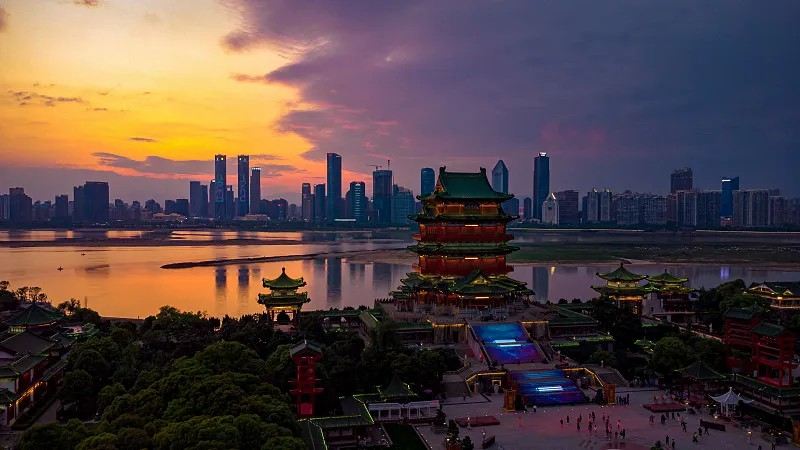Teng: (389, 166, 537, 316)
